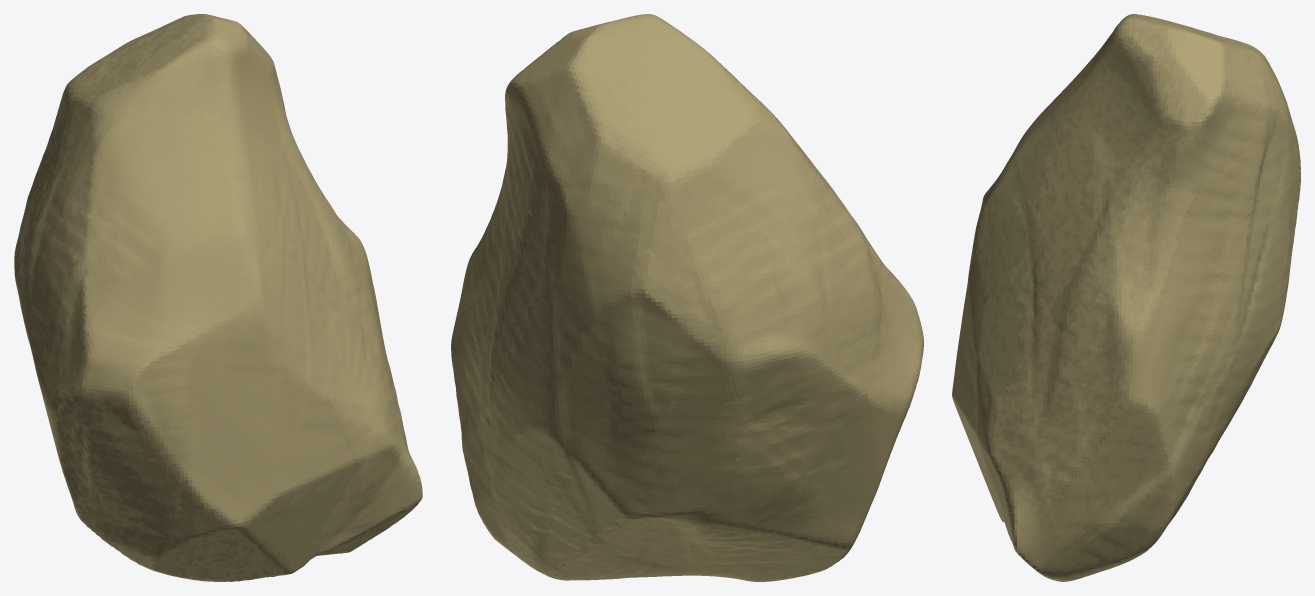
Rendered from SM_small_rock_01.fbx.
3 renders of one model, left to right at view 1: azimuth 30°, elevation 25°; view 2: azimuth 150°, elevation 25°; view 3: azimuth 270°, elevation 25°, orthographic. The views are drawn at different scales.
Visible parts, largest first — view 1: small_rock_01; view 2: small_rock_01; view 3: small_rock_01.
Part boxes in pixels (x1,y1,x2,y2): small_rock_01: (14, 14, 422, 581); small_rock_01: (451, 14, 923, 581); small_rock_01: (952, 14, 1300, 581).
Bounding box in the file's own units: 99.83 × 139 × 85.36.
